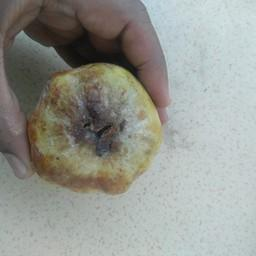Bad_guava: (22, 61, 162, 200)
